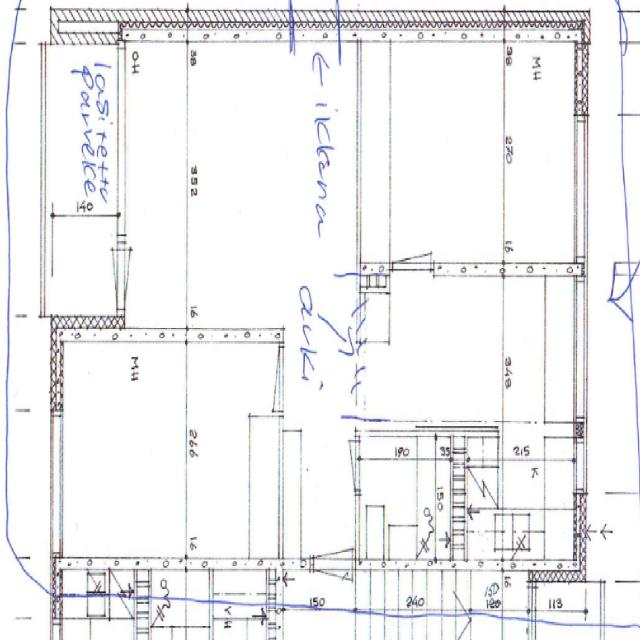door: (312, 556, 352, 638), (312, 489, 352, 570), (393, 197, 432, 276), (241, 348, 284, 412), (83, 250, 125, 308), (118, 250, 160, 308), (325, 441, 359, 492)
